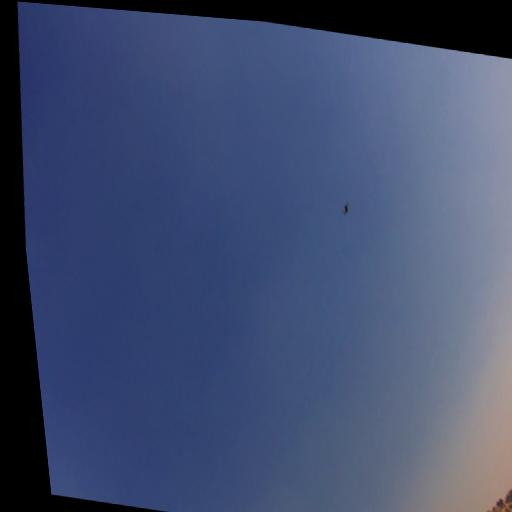drones: (340, 198, 352, 220)
